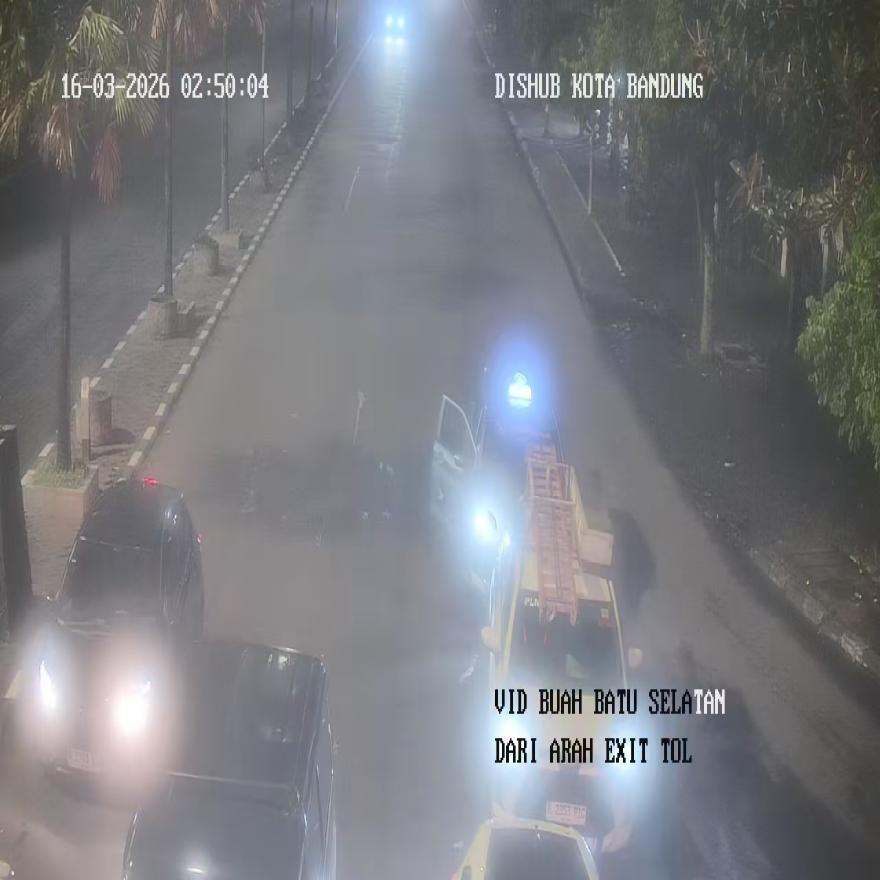Mobil: (478, 454, 646, 856), (25, 477, 204, 781), (121, 638, 338, 879)
